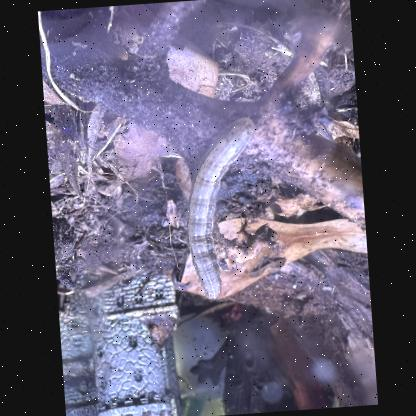Fall Armyworm Larvae: (172, 110, 274, 306)
